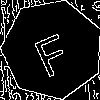F: (27, 24, 75, 79)
